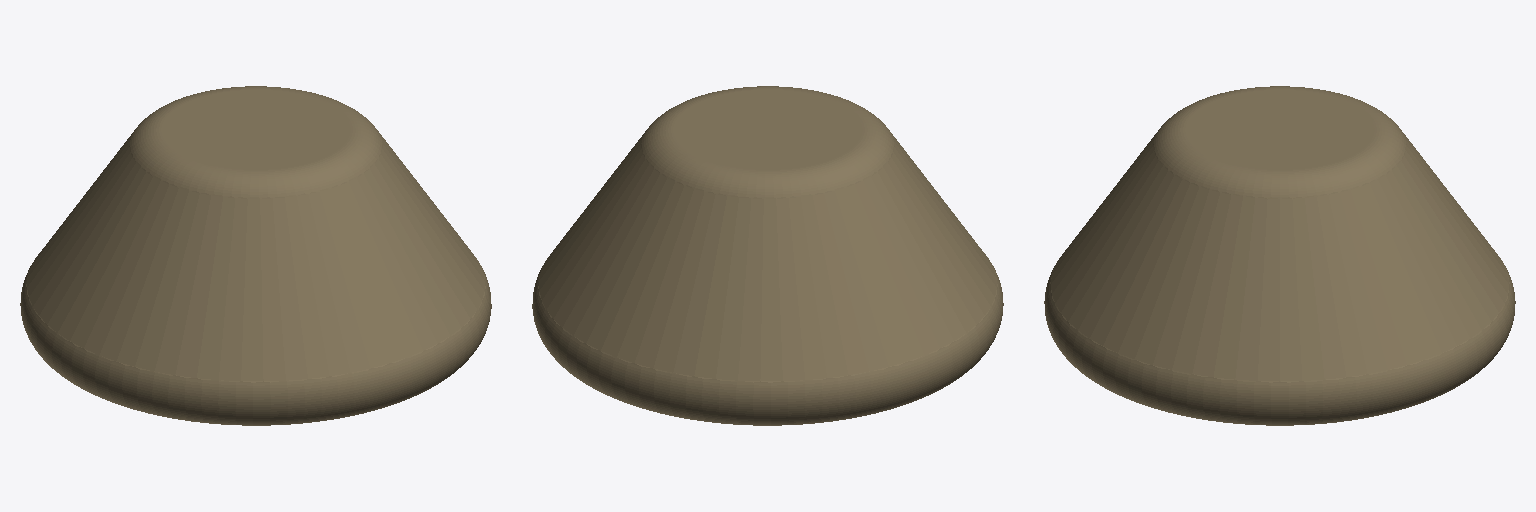
robot.urdf — cone_Stout_nipped:
<?xml version="1.0"?>
<robot name="cone_Stout_nipped">
  <link name="base_link">
    <visual>
      <origin xyz="0 0 0" rpy="0 0 0" />
      <geometry>
        <mesh filename="cone_Stout_nipped.obj"/>      
      </geometry>
      <material name="tan">
        <color rgba="0.55 0.5 0.4 1"/>
      </material>
    </visual>
    <collision>
      <origin xyz="0 0 0" rpy="0 0 0" />
      <geometry>
        <mesh filename="cone_Stout_nipped.obj"/>
      </geometry>
    </collision>
  </link>
</robot>

--- What the picture shows (computed from the rendered views, not written in the file) ---
Views: 3 orthographic renders of the robot side by side, from view 1: azimuth 30°, elevation 25°; view 2: azimuth 150°, elevation 25°; view 3: azimuth 270°, elevation 25°.
Model cone_Stout_nipped with 1 links and 0 joints (none), rooted at base_link, posed every joint at zero.
Visible links, largest first — view 1: base_link; view 2: base_link; view 3: base_link.
Link boxes in pixels (left/top/right/bottom): base_link: left=20, top=86, right=491, bottom=425; base_link: left=532, top=86, right=1003, bottom=425; base_link: left=1044, top=86, right=1515, bottom=425.
Size in the robot's own frame: 38.92 by 38.92 by 19.05 metres.
1 mesh visuals loaded from 1 distinct referenced files (1 OBJ).
